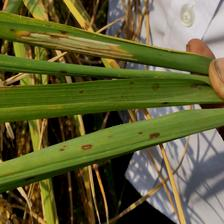0 BrownSpot: (78, 142, 101, 152), (146, 130, 166, 140), (56, 143, 69, 152), (58, 68, 72, 76), (152, 81, 162, 91), (6, 25, 17, 33), (77, 87, 86, 94)
